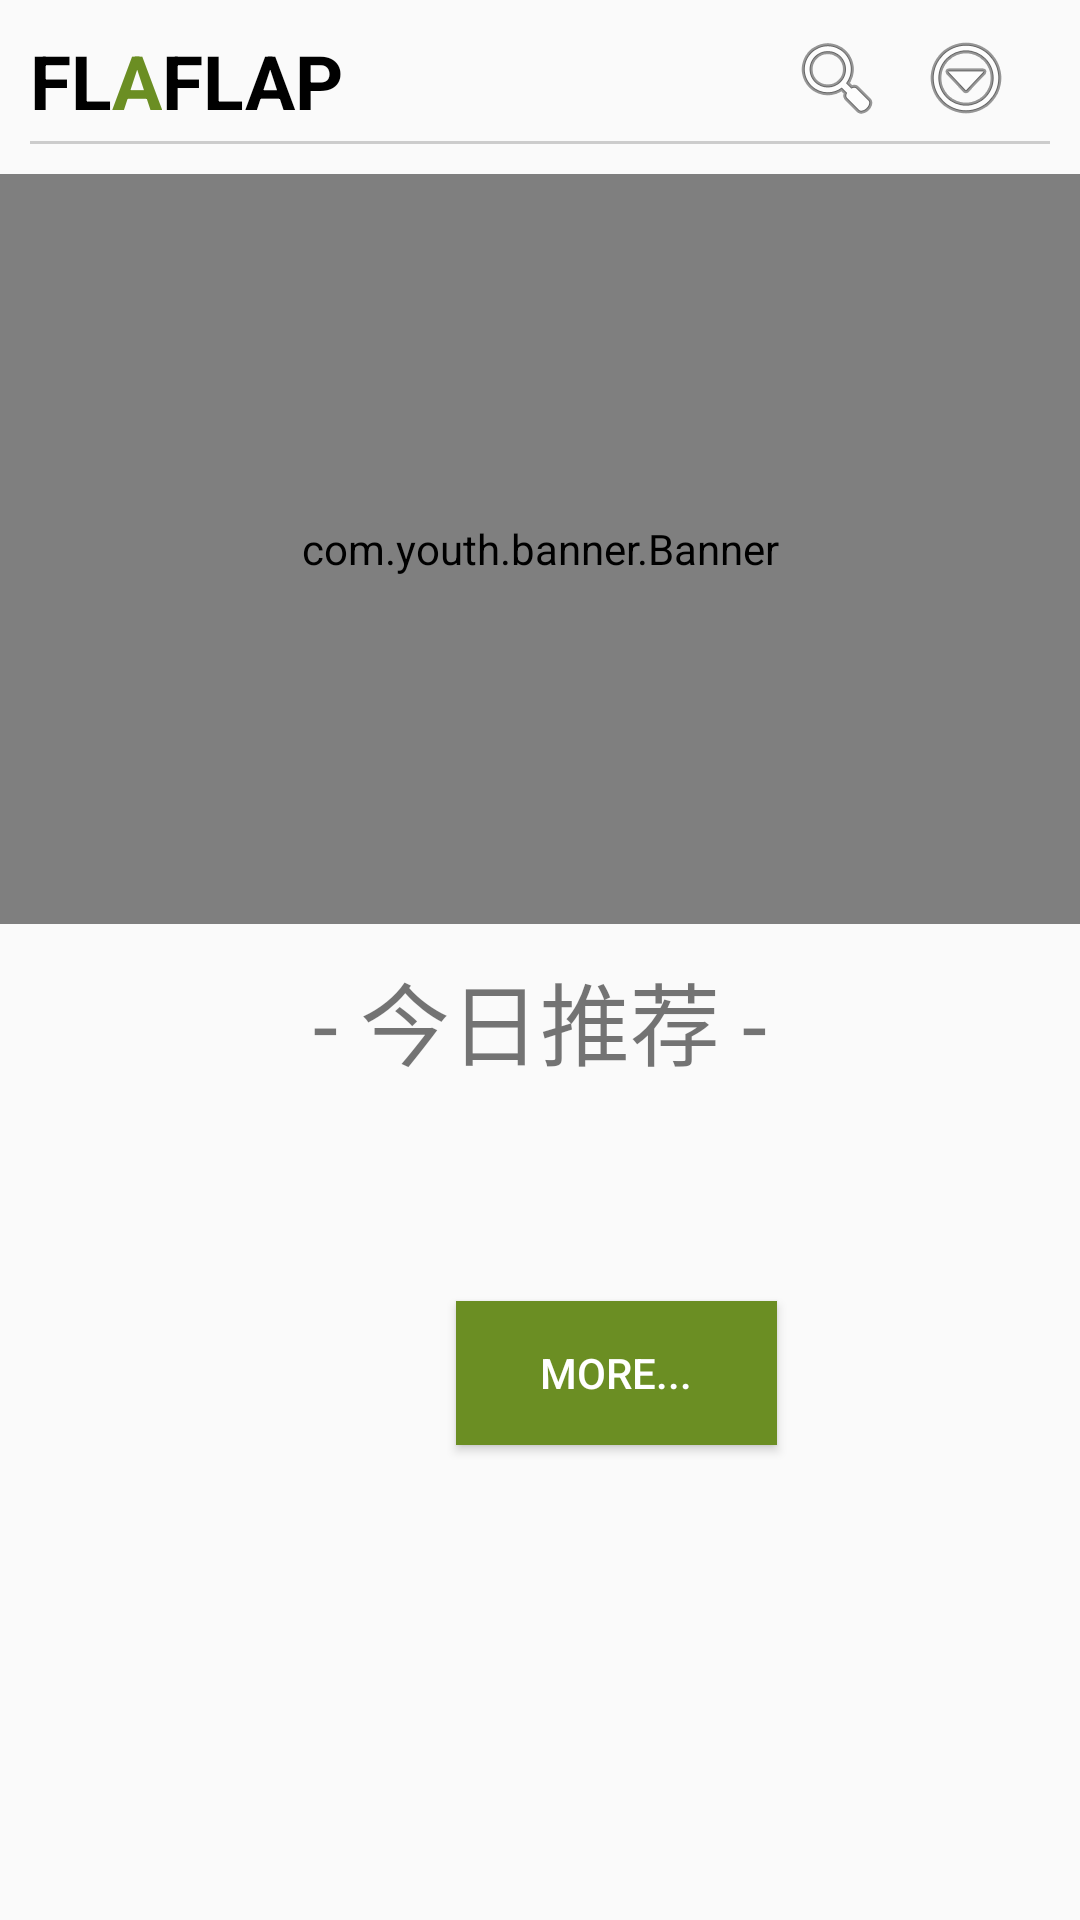

Named icons in this screenshot (1080x1920) and their centers, (x,y):
Menu: (966,78)
Search: (837,78)
